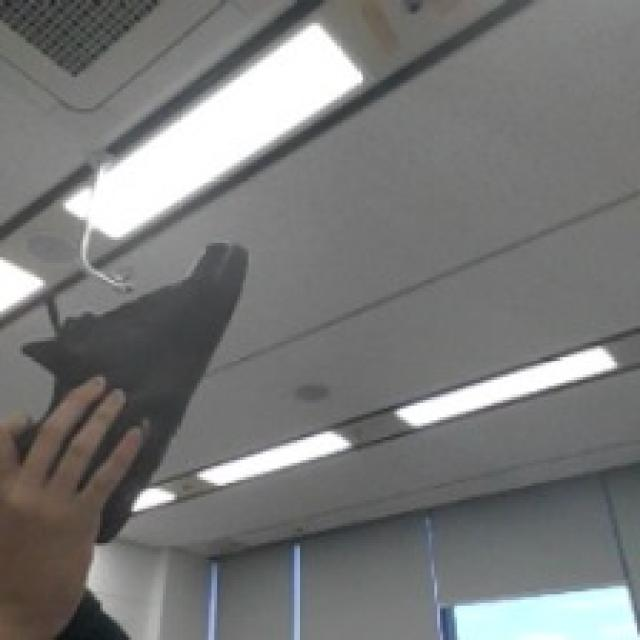shoe: (37, 234, 249, 549)
